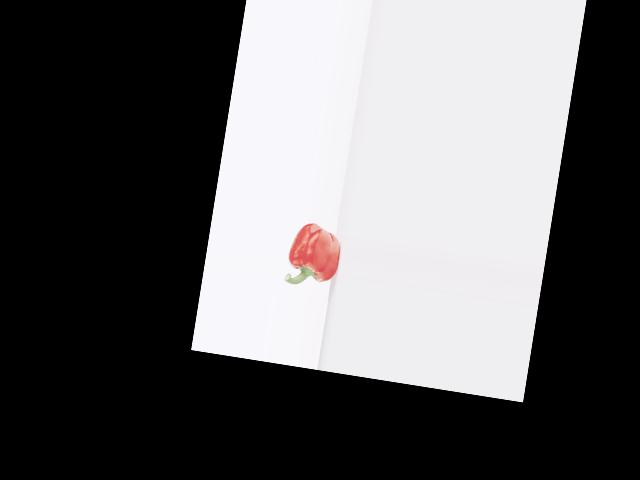bell_pepper: (280, 216, 346, 296)
